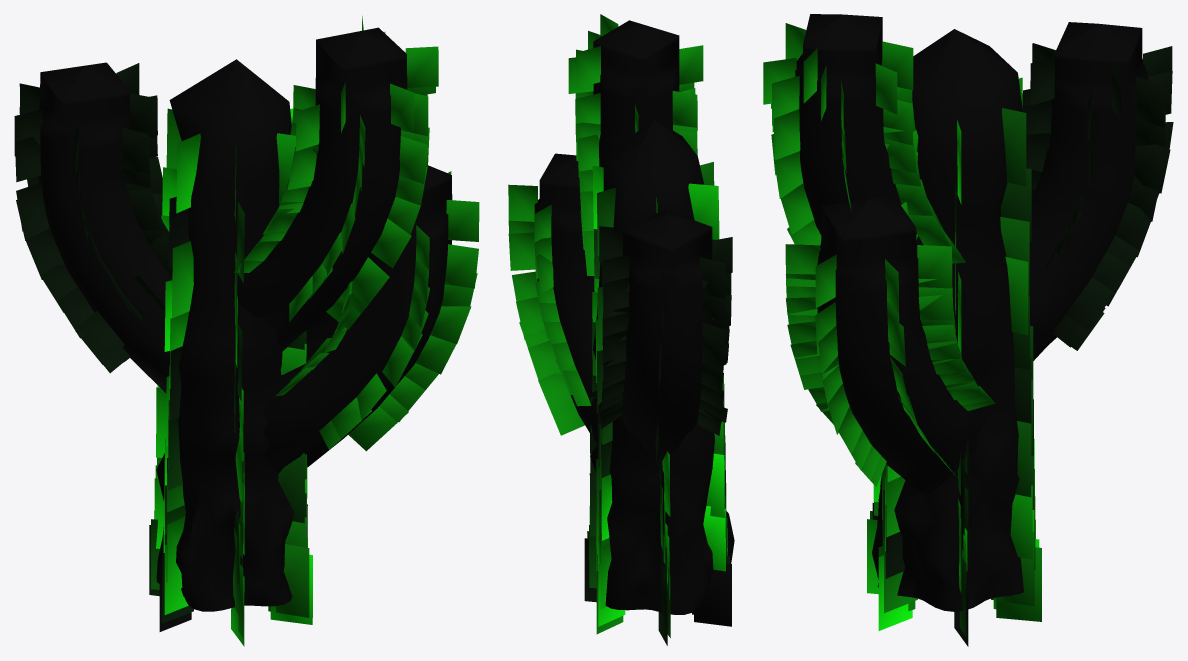
The model's file is Cactus_1_13.fbx.
3 views of the same model, side by side, from view 1: azimuth 30°, elevation 25°; view 2: azimuth 150°, elevation 25°; view 3: azimuth 270°, elevation 25° (orthographic). The views are drawn at different scales.
Visible parts, largest first — view 1: Cactus_1_13; view 2: Cactus_1_13; view 3: Cactus_1_13.
Boxes of the visible parts, bbox=[...] form: Cactus_1_13: bbox=[14, 16, 479, 646]; Cactus_1_13: bbox=[508, 14, 734, 645]; Cactus_1_13: bbox=[763, 14, 1173, 646].
Bounding box in the file's own units: 178 × 299 × 176.
